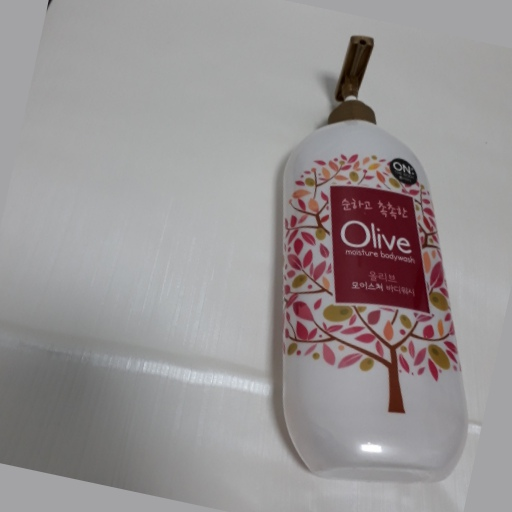Plastic_3: (278, 35, 468, 482)
